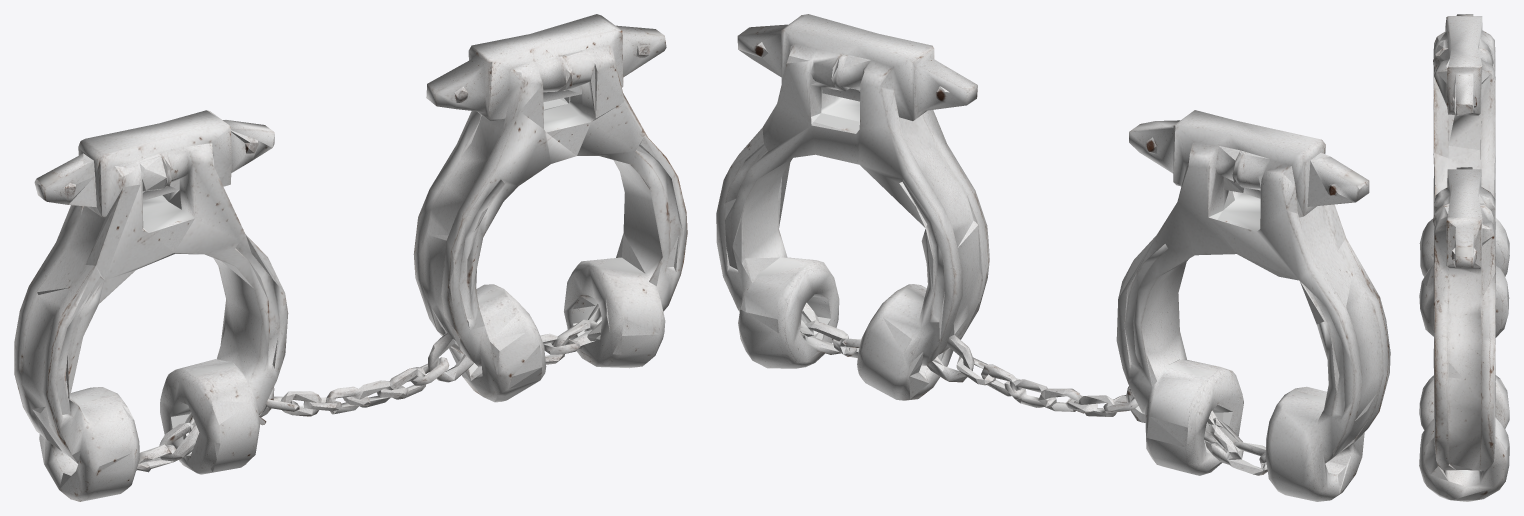
File: Menottes.fbx
3 views of the same model, side by side, from view 1: azimuth 30°, elevation 25°; view 2: azimuth 150°, elevation 25°; view 3: azimuth 270°, elevation 25° (orthographic). The views are drawn at different scales.
Parts seen in each view (by area): view 1: Mesh_0; view 2: Mesh_0; view 3: Mesh_0.
Boxes of the visible parts, box(x1,y1,x2,y2) form: Mesh_0: box(14, 14, 687, 501); Mesh_0: box(716, 14, 1390, 501); Mesh_0: box(1419, 14, 1509, 501).
Size of the model in its own units: 190 by 98.8 by 29.11.
Materials: 1 (1 with a texture image).
